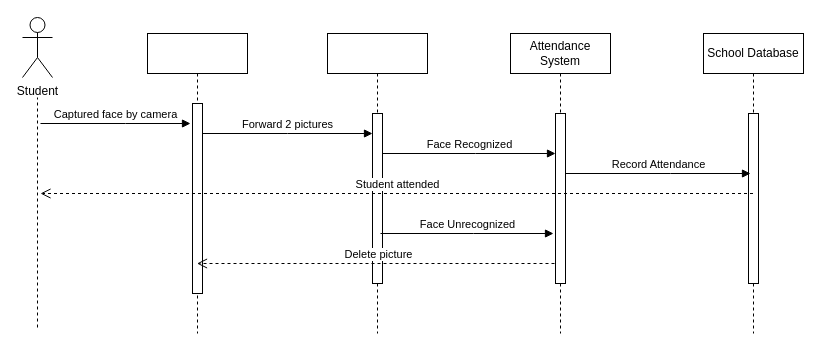
The diagram is 821 pixels wide and 351 high, and some of its shapes have lost their labels. The shapes that lost their labels are listed below. From the top down, each one's box as (x1, y1, x2, y2) in pixels, then its label:
(146, 32, 248, 334): CV manager
(326, 32, 428, 334): Face Recognition Model
